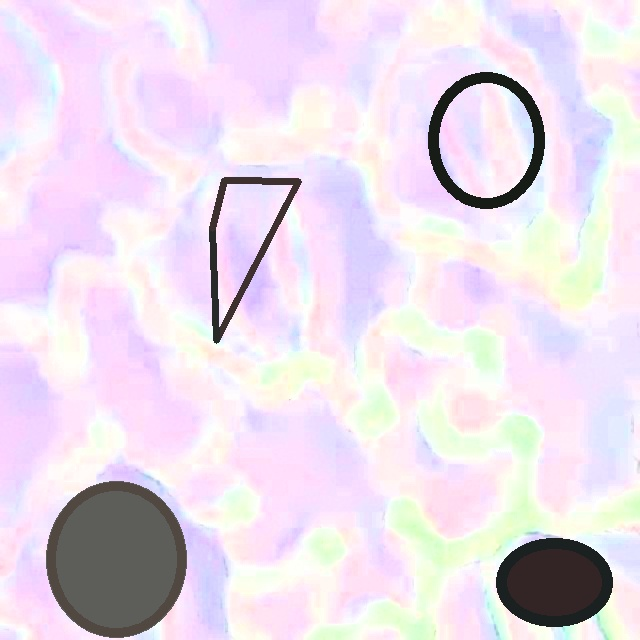close: (428, 72, 543, 208), (209, 178, 300, 343)
open: (45, 481, 186, 637), (496, 538, 611, 626)
